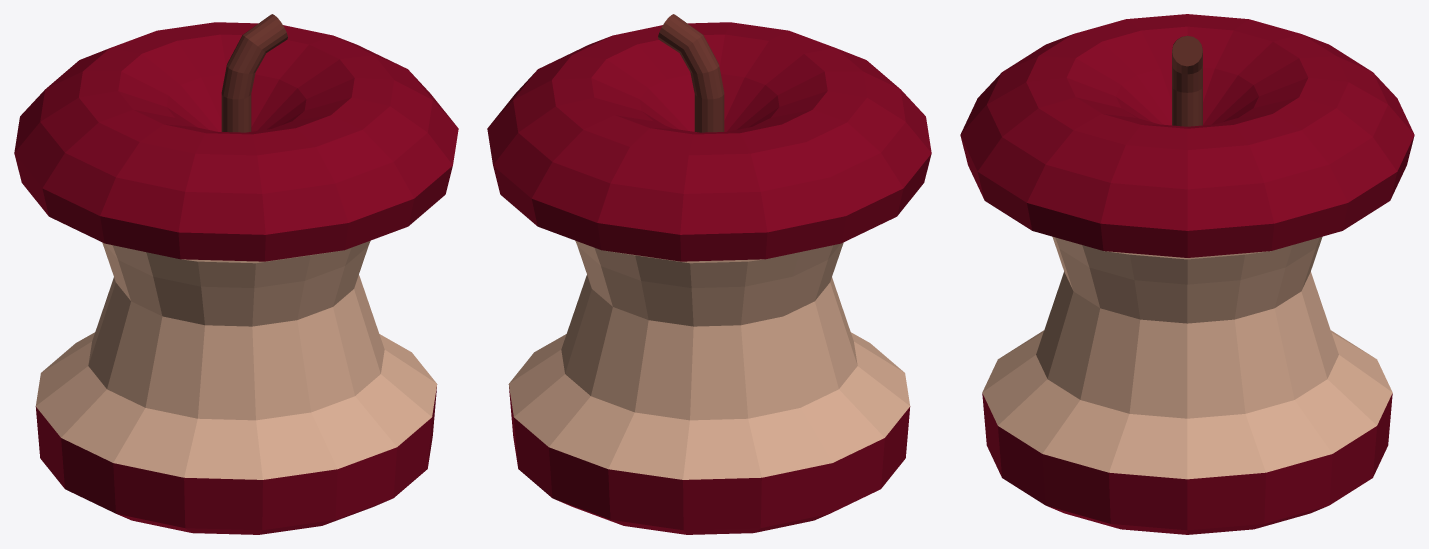
The model's file is Red_apple_partyassets.fbx.
3 views of the same model, side by side, from view 1: azimuth 30°, elevation 25°; view 2: azimuth 150°, elevation 25°; view 3: azimuth 270°, elevation 25° (orthographic).
Visible parts, largest first — view 1: Red_apple_partyassets; view 2: Red_apple_partyassets; view 3: Red_apple_partyassets.
Boxes of the visible parts, <box> form: Red_apple_partyassets: <box>14,14,458,534</box>; Red_apple_partyassets: <box>487,14,931,534</box>; Red_apple_partyassets: <box>960,14,1414,534</box>.
Size of the model in its own units: 11.97 by 13.07 by 11.97.
